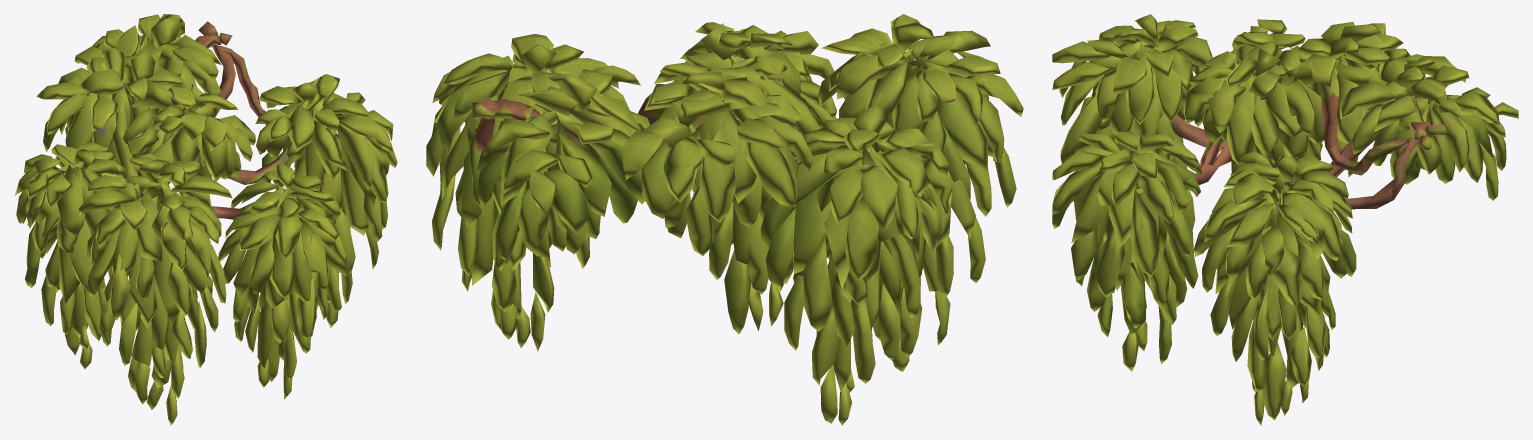
The model's file is cliff-foliage.glb.
3 views of the same model, side by side, from view 1: azimuth 30°, elevation 25°; view 2: azimuth 150°, elevation 25°; view 3: azimuth 270°, elevation 25° (orthographic). The views are drawn at different scales.
Parts seen in each view (by area): view 1: cliff-foliage; view 2: cliff-foliage; view 3: cliff-foliage.
Part boxes in pixels (x1=…): cliff-foliage: x1=14, y1=14, x2=397, y2=425; cliff-foliage: x1=426, y1=14, x2=1023, y2=425; cliff-foliage: x1=1052, y1=14, x2=1518, y2=425.
Bounding box in the file's own units: 1 × 0.7476 × 1.
1 material, 1 textured.
